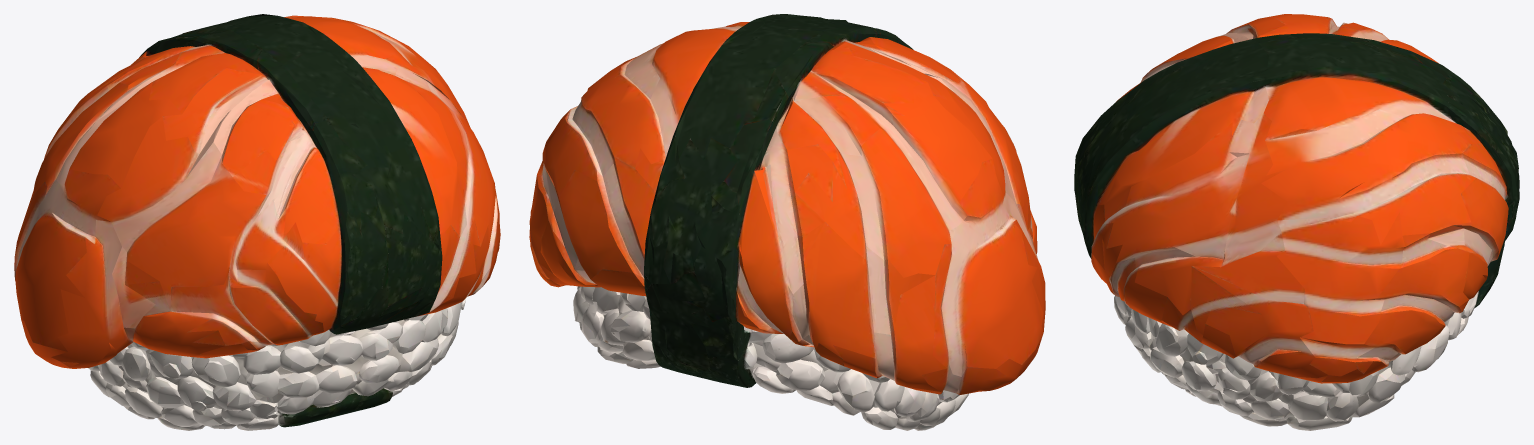
File: sushi_hat.glb
3 renders of one model, left to right at view 1: azimuth 30°, elevation 25°; view 2: azimuth 150°, elevation 25°; view 3: azimuth 270°, elevation 25°, orthographic. The views are drawn at different scales.
Parts seen in each view (by area): view 1: Mesh_0; view 2: Mesh_0; view 3: Mesh_0.
Part boxes in pixels (x1,y1,x2,y2): Mesh_0: [14, 14, 500, 430]; Mesh_0: [529, 14, 1045, 430]; Mesh_0: [1074, 14, 1519, 430].
Size of the model in its own units: 1 by 0.7233 by 0.8746.
1 material, 1 textured.
